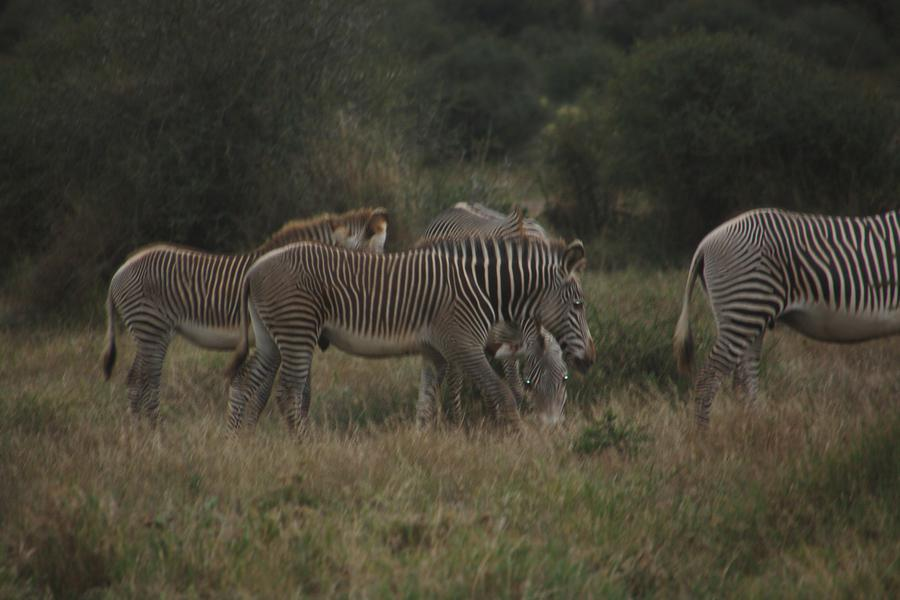zebra_grevys: (241, 237, 487, 345), (99, 225, 232, 343)
